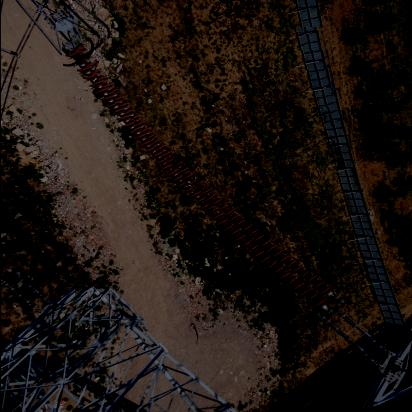insulator: (65, 31, 341, 326)
